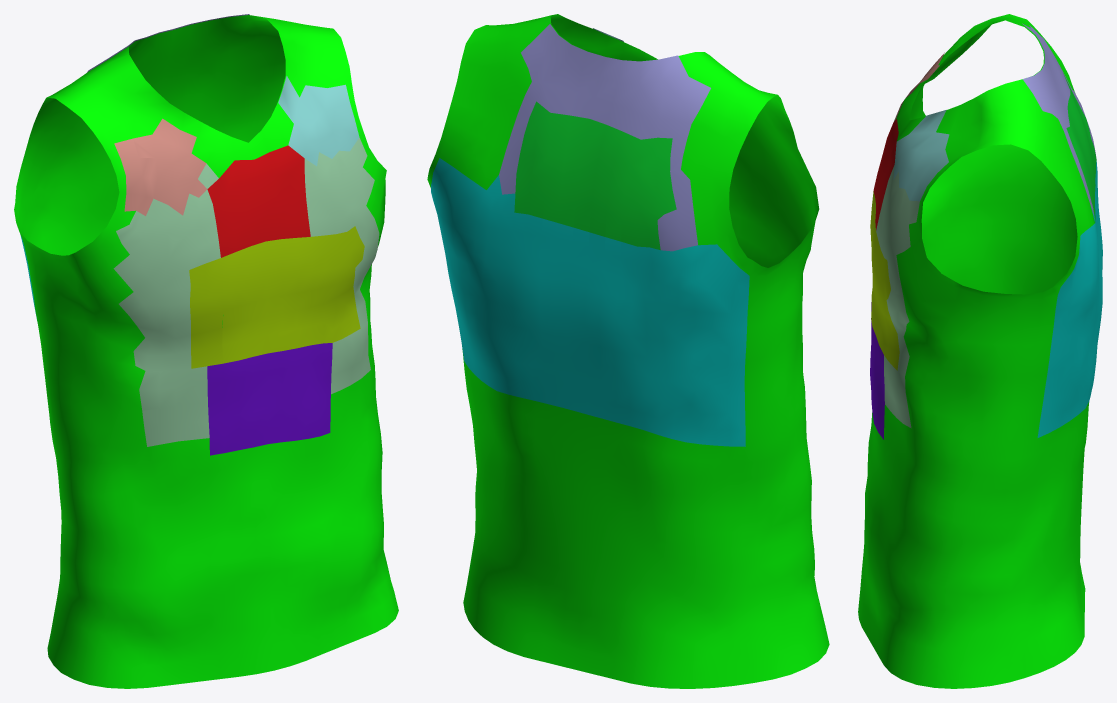
The picture shows the model from 3 angles, left to right: view 1: azimuth 30°, elevation 25°; view 2: azimuth 150°, elevation 25°; view 3: azimuth 270°, elevation 25°; orthographic projection. The views are drawn at different scales.
Parts seen in each view (by area): view 1: 228110; view 2: 228110; view 3: 228110.
Boxes of the visible parts, x1,y1,x2,y2 form: 228110: [14, 14, 398, 688]; 228110: [427, 14, 829, 688]; 228110: [858, 14, 1102, 688].
Size of what is drawn, in the model's own units: 0.5437 by 0.9246 by 0.3658.
